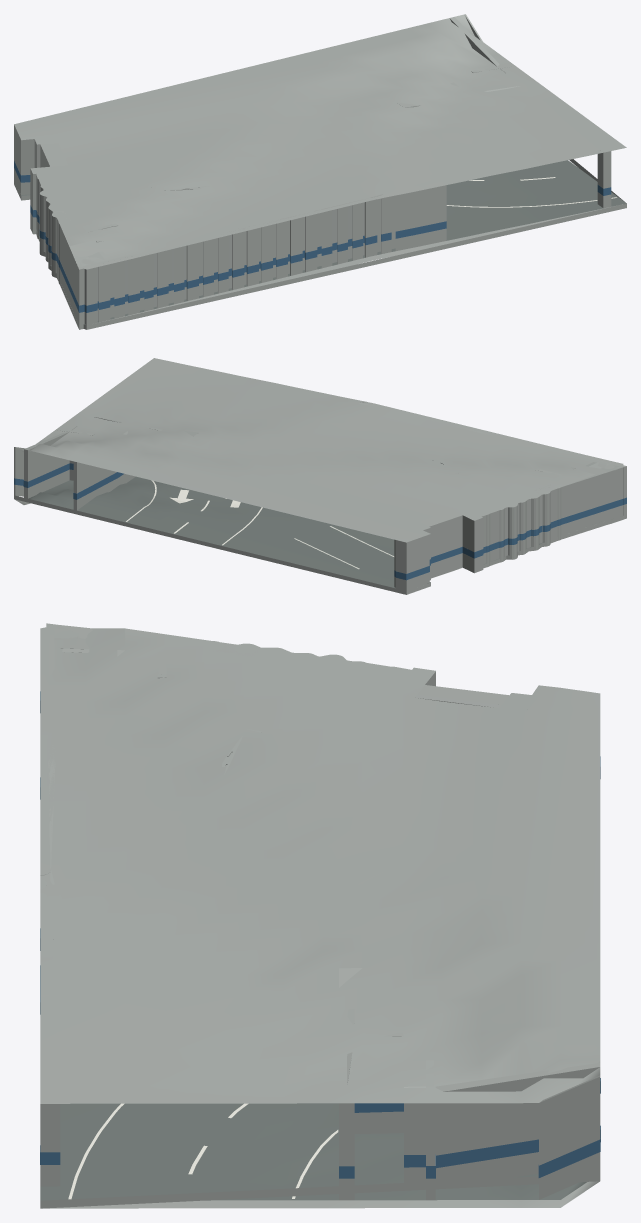
Rendered from B02-west-drive.glb.
3 views of the same model, one above another, from view 1: azimuth 30°, elevation 25°; view 2: azimuth 150°, elevation 25°; view 3: azimuth 270°, elevation 25° (orthographic). The views are drawn at different scales.
Parts seen in each view (by area): view 1: ASSUMED | ceiling2.70 above floor, SOURCE GRADES | interpolated floor, SCENE CUT | slab edge.037, SOURCE WALL 741, SOURCE WALL 108, SOURCE GRADES | floor underside, SOURCE WALL 695, SOURCE WALL 618, SOURCE WALL 741.003, SOURCE WALL 19, SOURCE WALL 634, SOURCE WALL 653 (+22 smaller); view 2: ASSUMED | ceiling2.70 above floor, SOURCE GRADES | interpolated floor, SOURCE WALL 695, SCENE CUT | slab edge.035, SOURCE WALL 600, SOURCE WALL 29, SOURCE WALL 618, SOURCE WALL 749, SOURCE WALL 57, SOURCE WALL 613, PROPOSED | identity band.058, SOURCE WALL 627 (+4 smaller); view 3: ASSUMED | ceiling2.70 above floor, SOURCE GRADES | interpolated floor, SOURCE WALL 29, SOURCE WALL 24, SCENE CUT | slab edge.036, SOURCE GRADES | floor underside, SOURCE WALL 19, SOURCE WALL 53, PROPOSED | identity band.005, SOURCE WALL 9, SOURCE WALL 598, SOURCE WALL 58 (+2 smaller).
Part boxes in pixels (x1,y1,x2,y2): ASSUMED | ceiling2.70 above floor: (14, 14, 626, 269); SOURCE GRADES | interpolated floor: (21, 160, 626, 324); SCENE CUT | slab edge.037: (86, 203, 626, 329); SOURCE WALL 741: (228, 194, 395, 288); SOURCE WALL 108: (415, 182, 446, 247); SOURCE GRADES | floor underside: (76, 205, 616, 323); SOURCE WALL 695: (54, 211, 90, 322); SOURCE WALL 618: (14, 124, 34, 194); SOURCE WALL 741.003: (140, 245, 186, 310); SOURCE WALL 19: (597, 147, 611, 208); SOURCE WALL 634: (84, 264, 97, 325); SOURCE WALL 653: (364, 198, 377, 257); ASSUMED | ceiling2.70 above floor: (16, 358, 625, 542); SOURCE GRADES | interpolated floor: (28, 476, 543, 588); SOURCE WALL 695: (535, 464, 623, 542); SCENE CUT | slab edge.035: (14, 495, 406, 594); SOURCE WALL 600: (422, 511, 462, 574); SOURCE WALL 29: (24, 432, 69, 498); SOURCE WALL 618: (395, 534, 429, 590); SOURCE WALL 749: (477, 490, 541, 564); SOURCE WALL 57: (73, 461, 118, 510); SOURCE WALL 613: (452, 507, 483, 569); PROPOSED | identity band.058: (542, 498, 623, 531); SOURCE WALL 627: (506, 502, 517, 555); ASSUMED | ceiling2.70 above floor: (40, 624, 600, 1103); SOURCE GRADES | interpolated floor: (40, 1103, 586, 1200); SOURCE WALL 29: (435, 1063, 600, 1181); SOURCE WALL 24: (539, 1075, 600, 1199); SCENE CUT | slab edge.036: (40, 1173, 600, 1208); SOURCE GRADES | floor underside: (43, 1181, 599, 1208); SOURCE WALL 19: (40, 1082, 60, 1186); SOURCE WALL 53: (404, 1086, 425, 1182); PROPOSED | identity band.005: (436, 1125, 600, 1168); SOURCE WALL 9: (339, 1103, 354, 1200); SOURCE WALL 598: (354, 1032, 403, 1133); SOURCE WALL 58: (426, 1086, 435, 1200).
Bounding box in the file's own units: 27.68 × 3.68 × 14.16.
